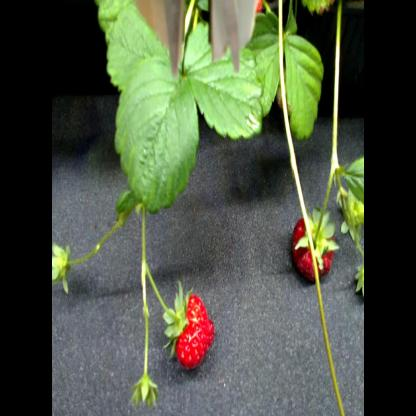ripe: (284, 204, 338, 286), (172, 287, 220, 374)
